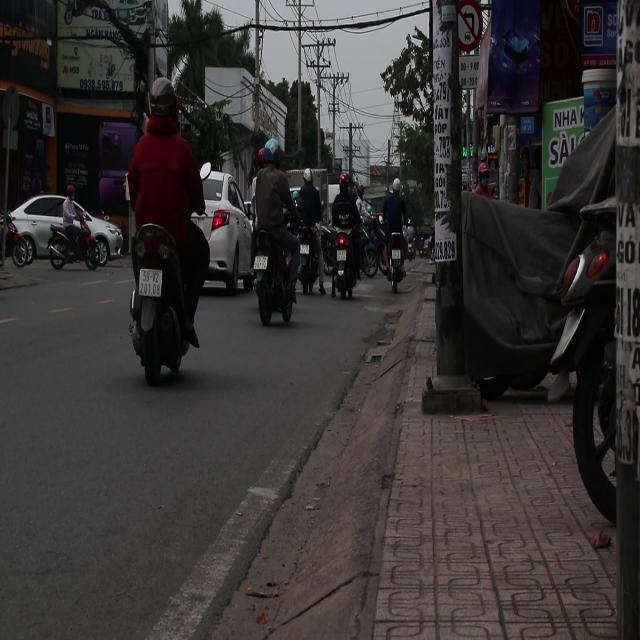car: (199, 166, 254, 298), (20, 197, 110, 271)
motorbike: (127, 222, 193, 386), (254, 226, 301, 326), (47, 216, 107, 273), (320, 220, 362, 298), (360, 216, 386, 282), (386, 229, 406, 297)
